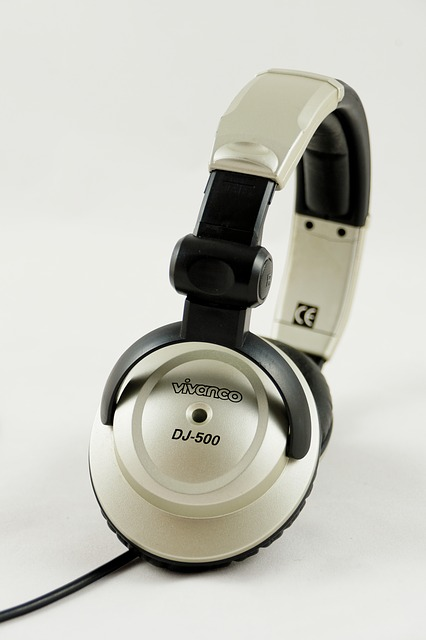headphones: (87, 69, 372, 575)
